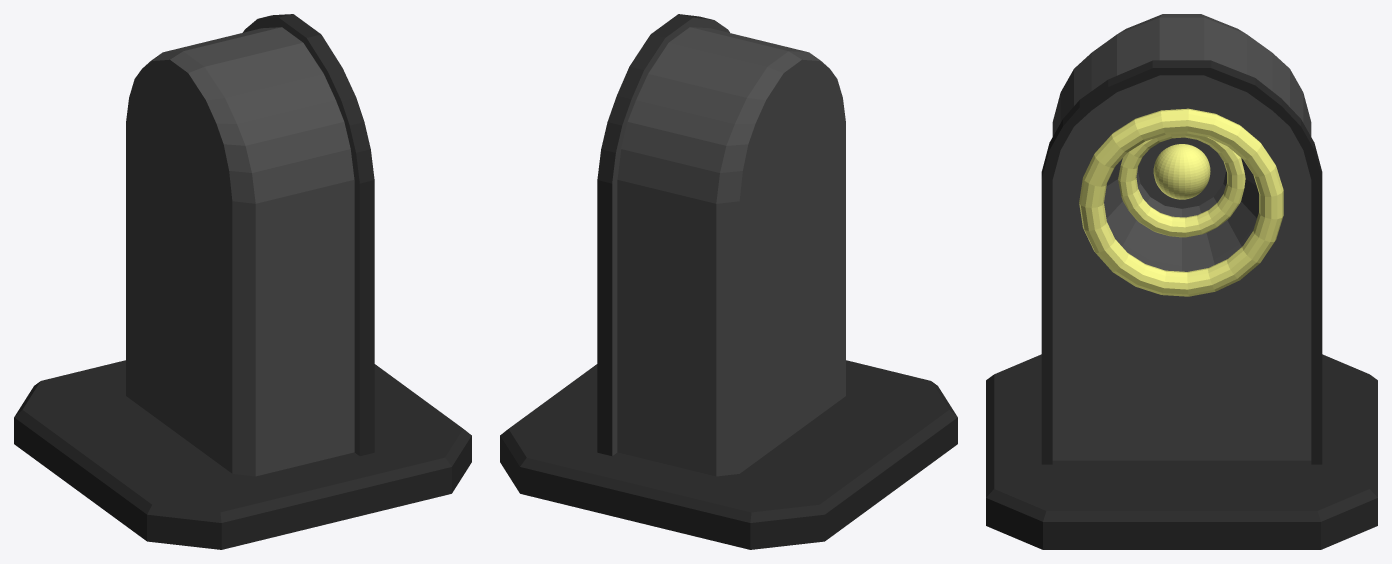
Rendered from receptor.fbx.
3 views of the same model, side by side, from view 1: azimuth 30°, elevation 25°; view 2: azimuth 150°, elevation 25°; view 3: azimuth 270°, elevation 25° (orthographic). The views are drawn at different scales.
Visible parts, largest first — view 1: body, base; view 2: body, base; view 3: body, base, Aros, Sphere.
Part boxes in pixels (bbox=[...]): body: bbox=[126, 14, 374, 476]; base: bbox=[14, 360, 471, 549]; body: bbox=[597, 14, 845, 476]; base: bbox=[500, 360, 957, 549]; body: bbox=[1041, 14, 1322, 464]; base: bbox=[986, 354, 1377, 549]; Aros: bbox=[1079, 108, 1283, 296]; Sphere: bbox=[1153, 144, 1210, 199].
Bounding box in the file's own units: 200 × 243 × 200.
